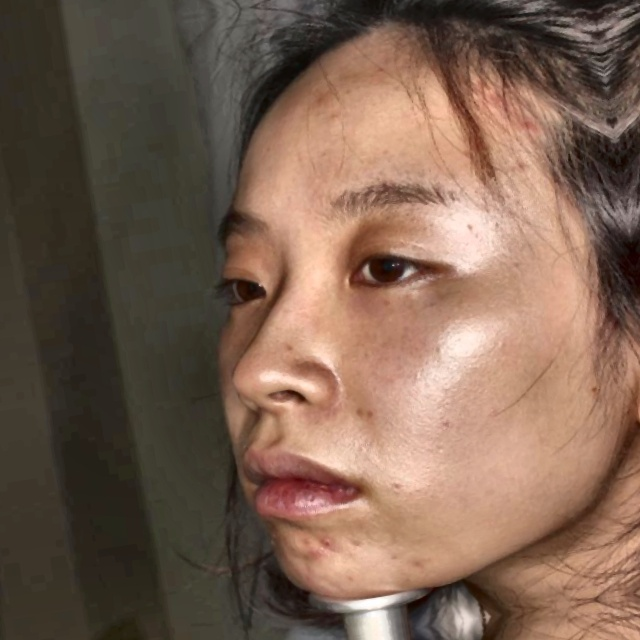comedone: (470, 75, 499, 116), (516, 110, 548, 139), (295, 539, 325, 569)
